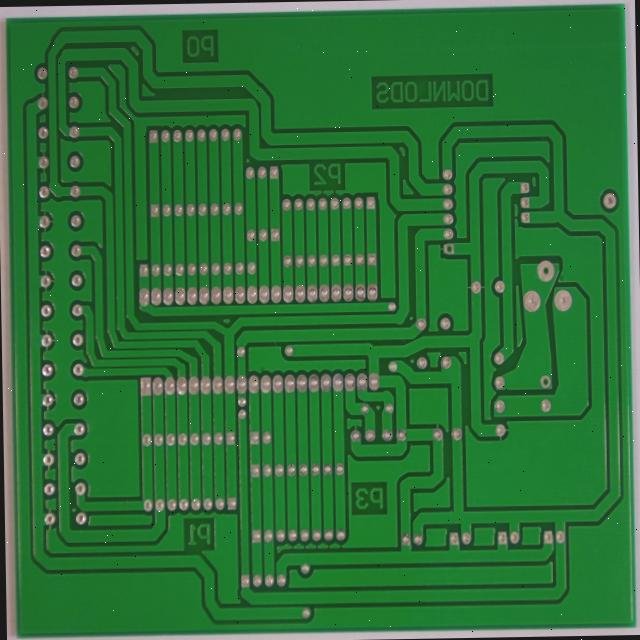missing_hole: (565, 225, 583, 252), (464, 205, 480, 223), (566, 348, 579, 370)
